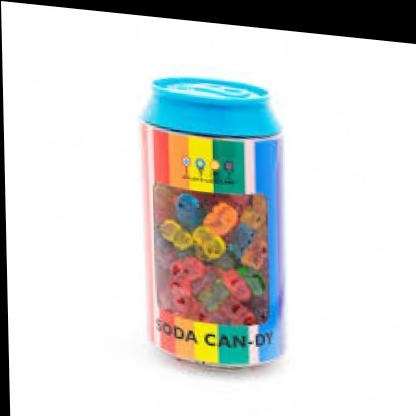trash: (142, 77, 282, 365)
